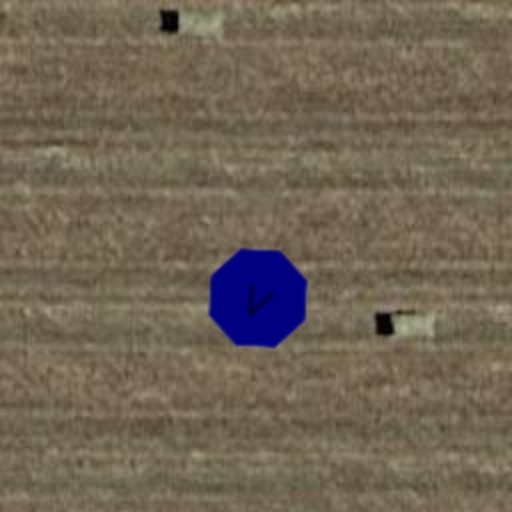octagon: (186, 226, 330, 370)
